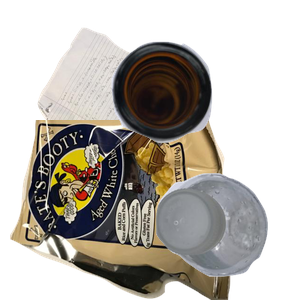glass: (109, 39, 300, 175)
paper: (35, 25, 232, 204)
plastic: (153, 170, 300, 300)
trash: (10, 120, 235, 300)
